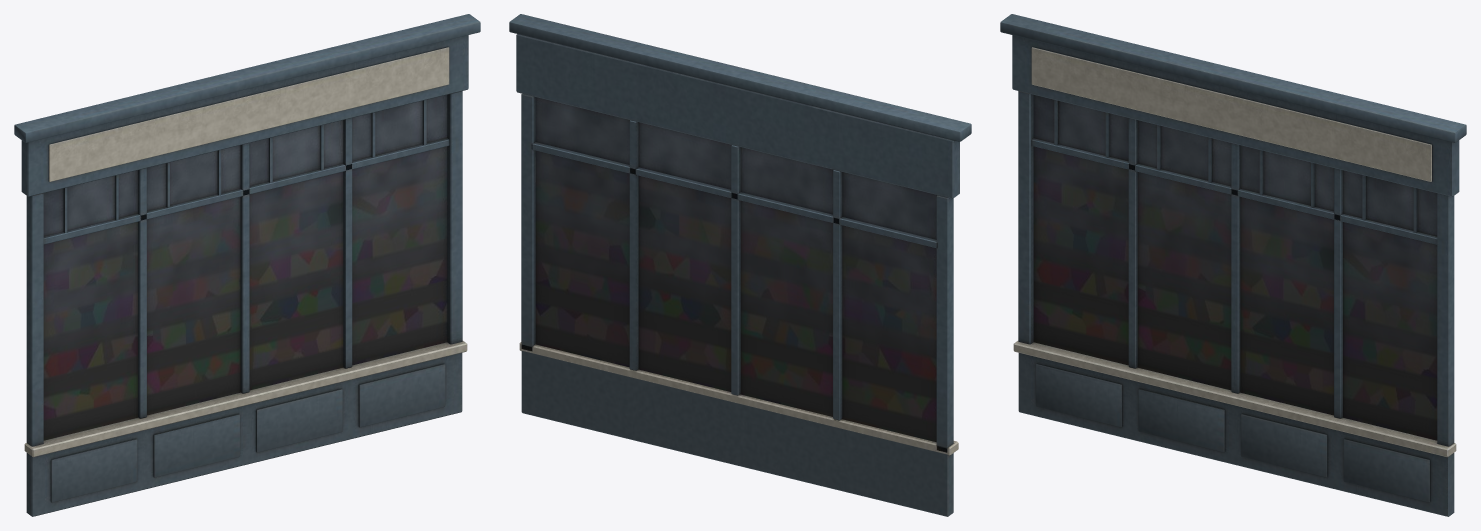
File: shop_town_40_blue.glb
3 views of the same model, side by side, from view 1: azimuth 30°, elevation 25°; view 2: azimuth 150°, elevation 25°; view 3: azimuth 330°, elevation 25° (orthographic).
Visible parts, largest first — view 1: shop_town_40_blue; view 2: shop_town_40_blue; view 3: shop_town_40_blue.
Boxes of the visible parts, x1,y1,x2,y2 form: shop_town_40_blue: [14, 14, 480, 516]; shop_town_40_blue: [509, 14, 971, 516]; shop_town_40_blue: [1000, 14, 1466, 516].
Size of the model in its own units: 4.44 by 3.65 by 0.2.
Materials: 1 (1 with a texture image).
